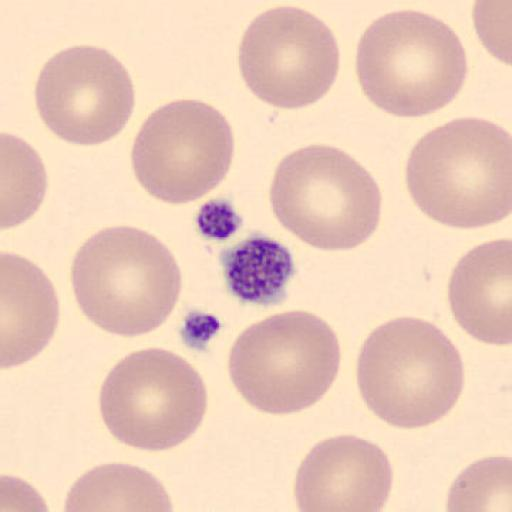Platelet: (217, 229, 298, 308)
RBC: (69, 223, 183, 338), (267, 142, 384, 254), (354, 314, 465, 431), (354, 7, 468, 120), (226, 308, 344, 417), (404, 114, 512, 230), (97, 345, 209, 453), (129, 96, 235, 206), (237, 2, 342, 112), (34, 43, 138, 147), (292, 432, 395, 512), (2, 249, 61, 370), (448, 238, 512, 348), (62, 460, 176, 512), (2, 130, 49, 230), (443, 453, 512, 512), (471, 0, 512, 68), (0, 472, 51, 512)
